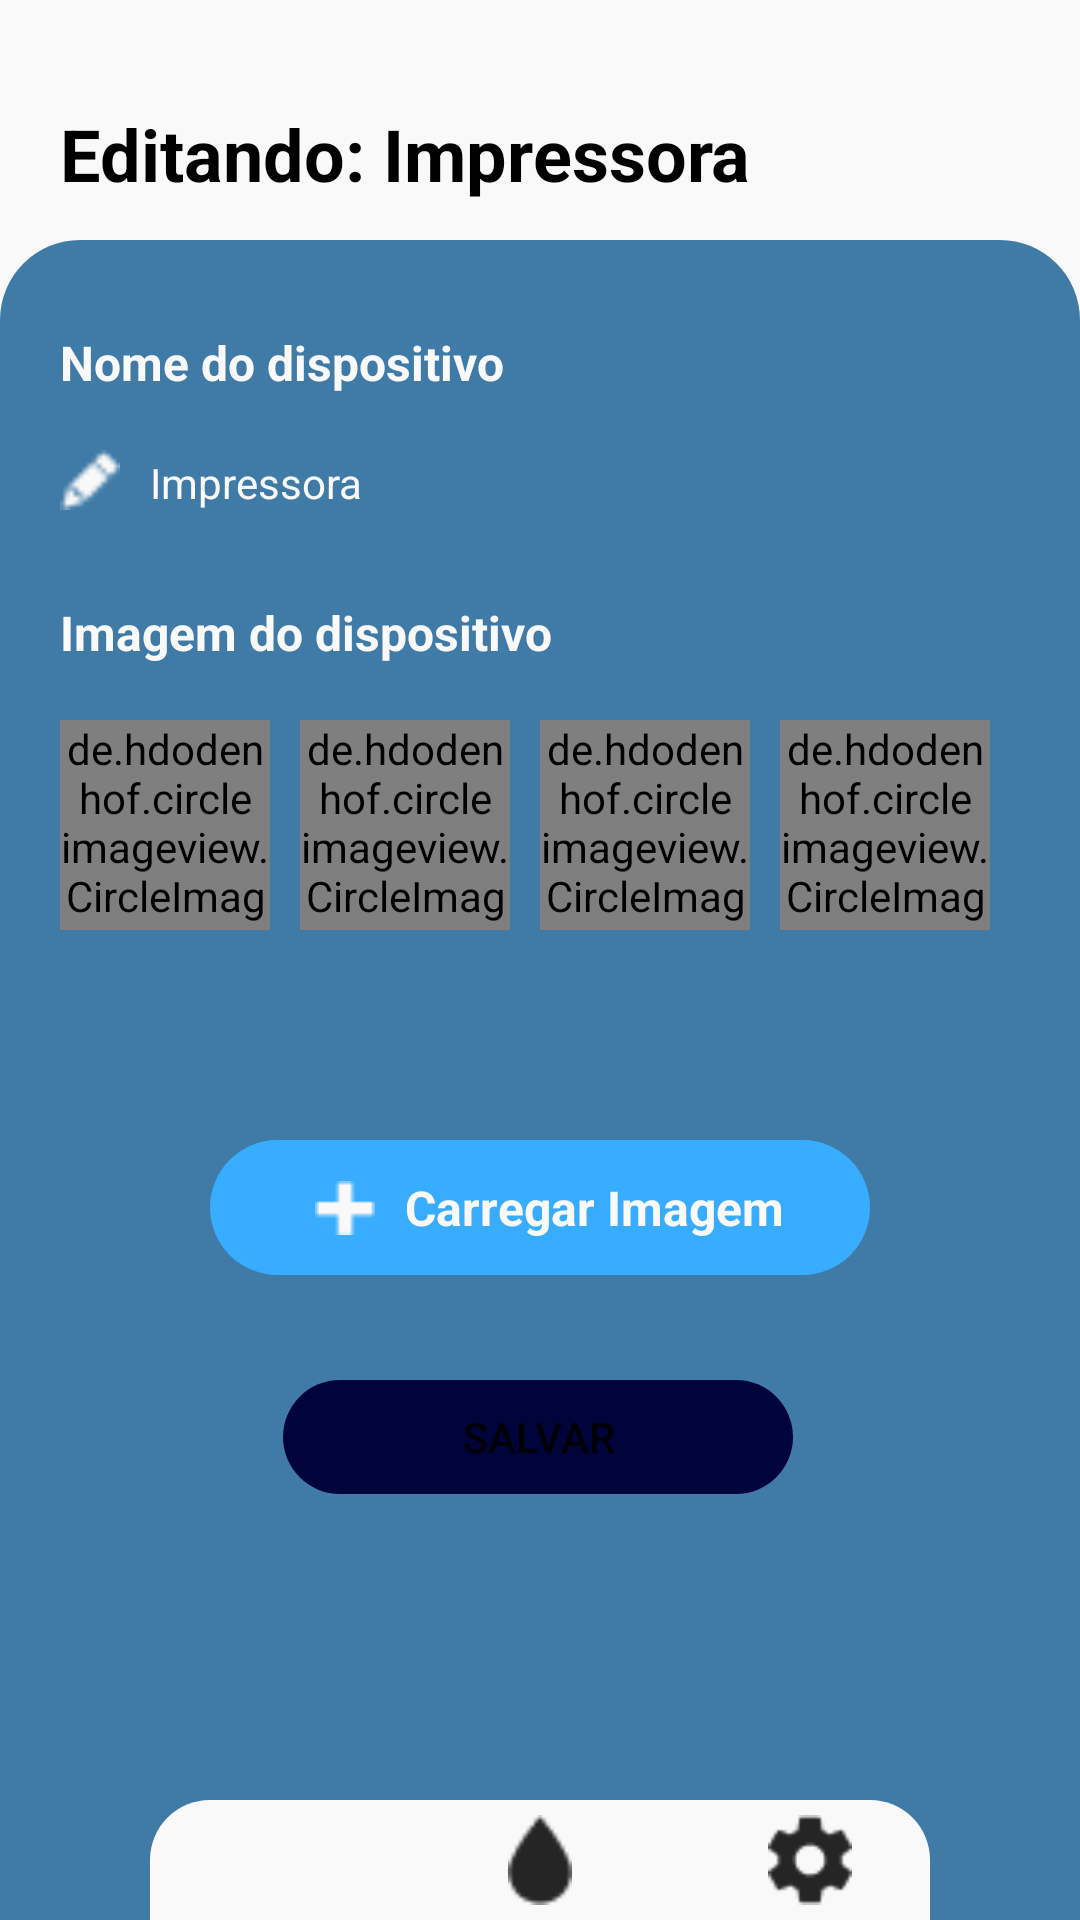

Screen size 1080px×1920px. Icon name, then its center in pixels as point (x, y):
config: point (810, 1860)
edit name: point (90, 480)
moisture: point (540, 1860)
plus: point (345, 1208)
